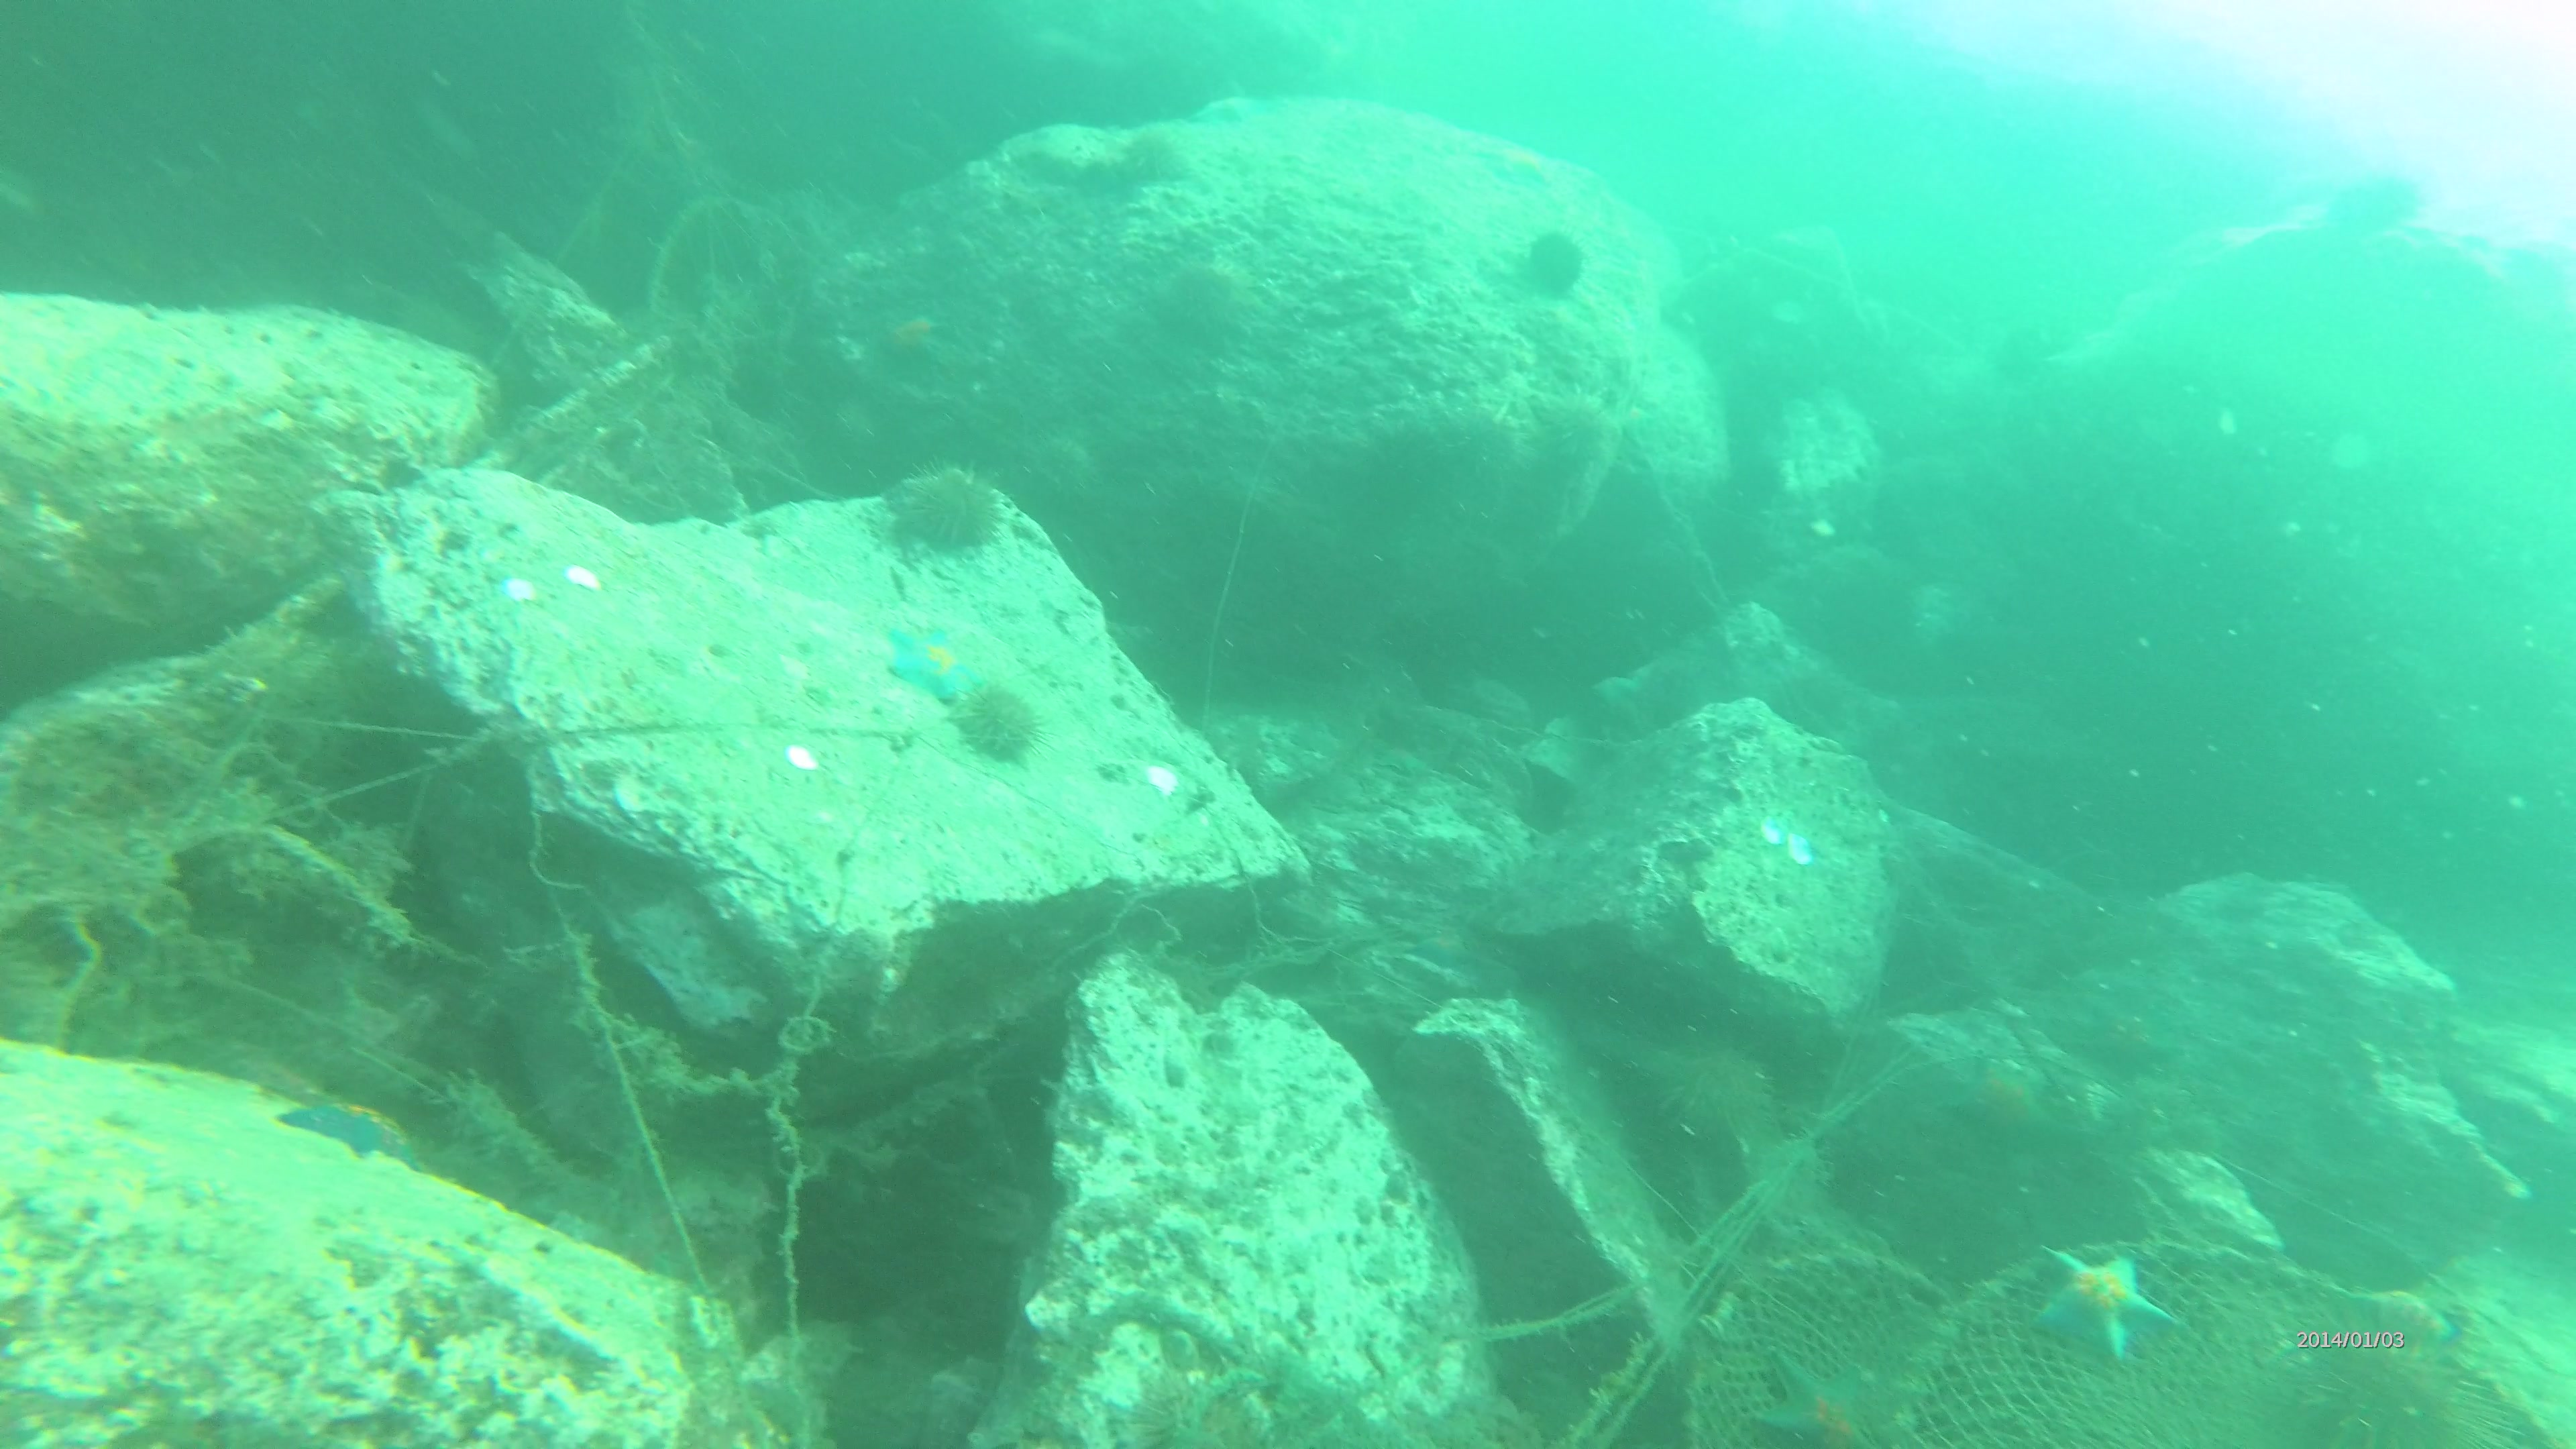echinus: (2295, 1330, 2537, 1449), (1660, 1030, 1782, 1152), (895, 456, 1008, 552), (1019, 425, 1108, 518), (1157, 262, 1253, 349), (950, 688, 1039, 771), (950, 683, 1042, 761), (1548, 382, 1626, 462), (1371, 416, 1454, 481), (1449, 414, 1518, 481), (1529, 226, 1580, 294), (1127, 131, 1184, 173)
scallop: (786, 741, 824, 770), (563, 559, 594, 589)
starfish: (2040, 1233, 2180, 1368), (1757, 1339, 1868, 1449), (276, 1090, 421, 1168), (1957, 1054, 2056, 1146), (2348, 1272, 2459, 1350), (872, 621, 982, 699), (1490, 133, 1548, 189), (876, 313, 938, 356)
